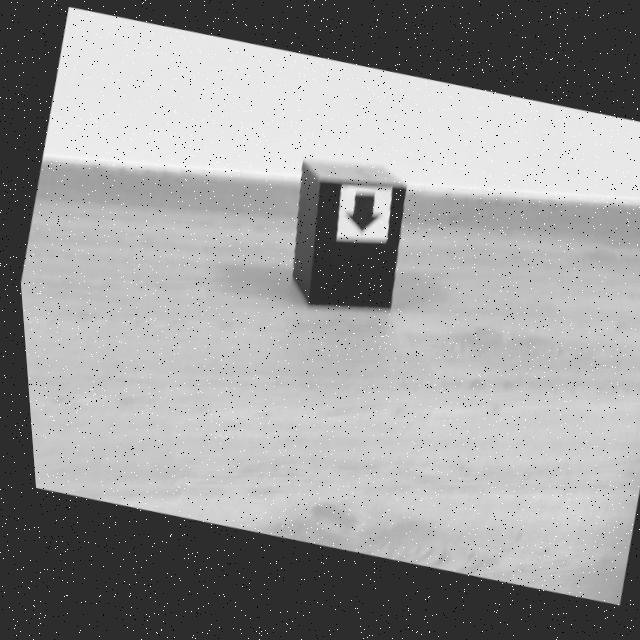DOWN: (340, 195, 377, 237)
